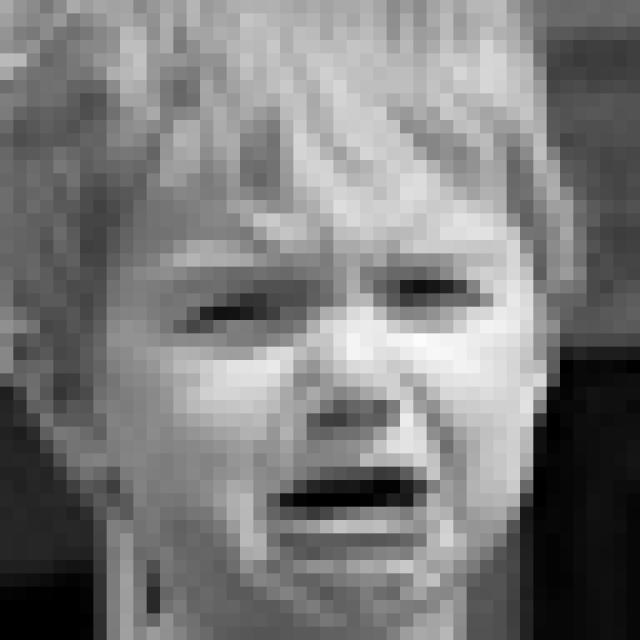sad: (142, 198, 512, 592)
